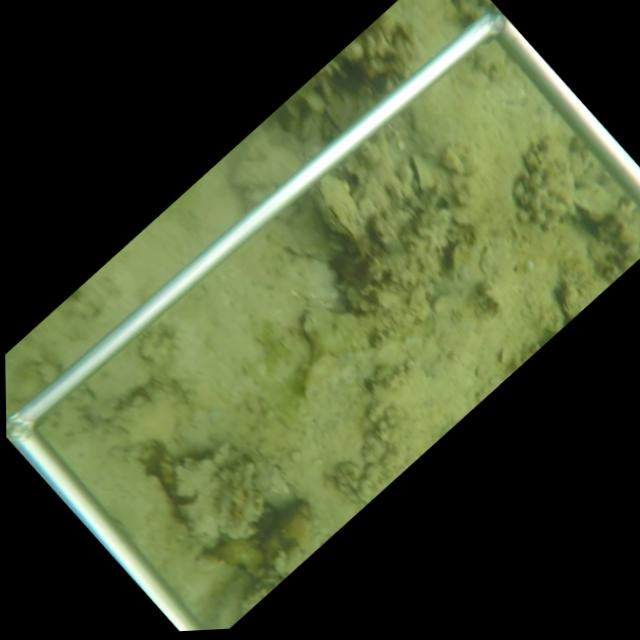Oyster-Closed: (310, 172, 373, 257)
Oyster-Open: (404, 148, 439, 193)
